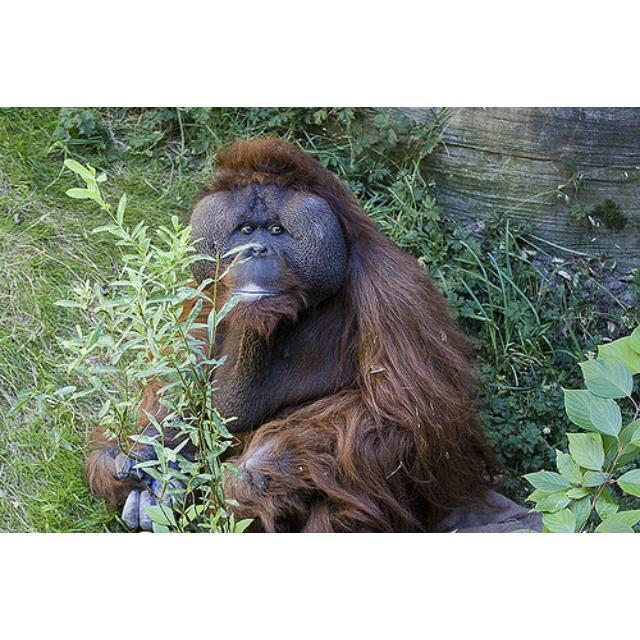Orangutan: (89, 135, 474, 528)
